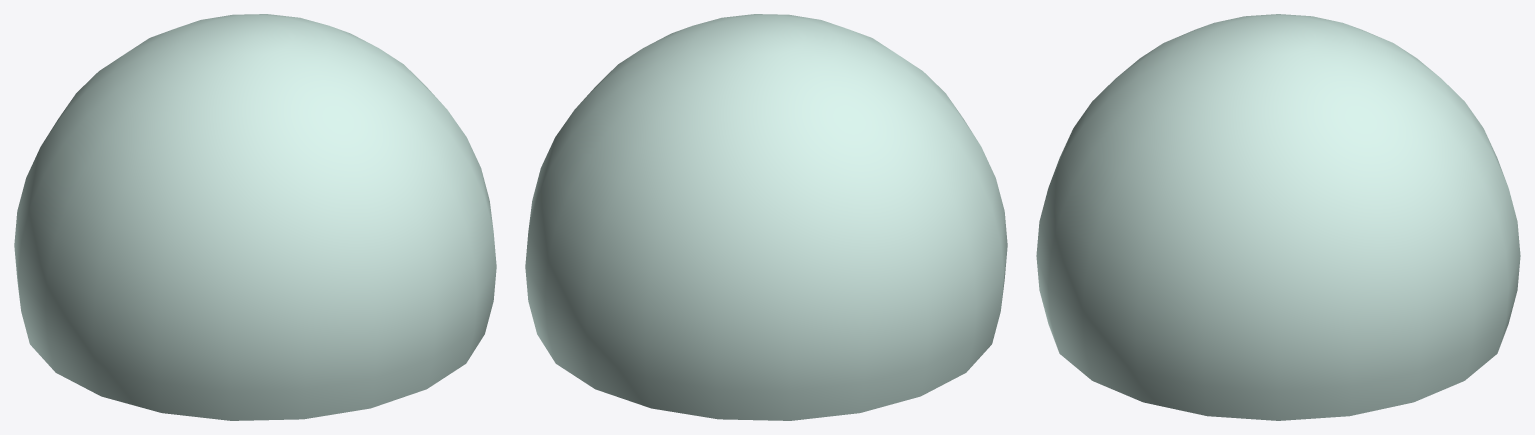
File: Dome.fbx
The picture shows the model from 3 angles, left to right: view 1: azimuth 30°, elevation 25°; view 2: azimuth 150°, elevation 25°; view 3: azimuth 270°, elevation 25°; orthographic projection.
Visible parts, largest first — view 1: Dome; view 2: Dome; view 3: Dome.
Boxes of the visible parts, <box> form: Dome: <box>14,14,496,420</box>; Dome: <box>525,14,1007,420</box>; Dome: <box>1036,14,1520,420</box>.
Size of the model in its own units: 6299 by 6299 by 4123.
